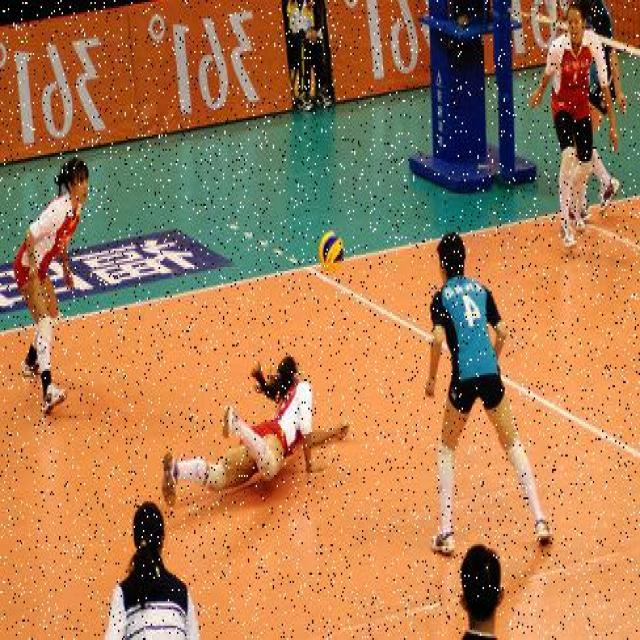fall: (162, 348, 348, 508)
